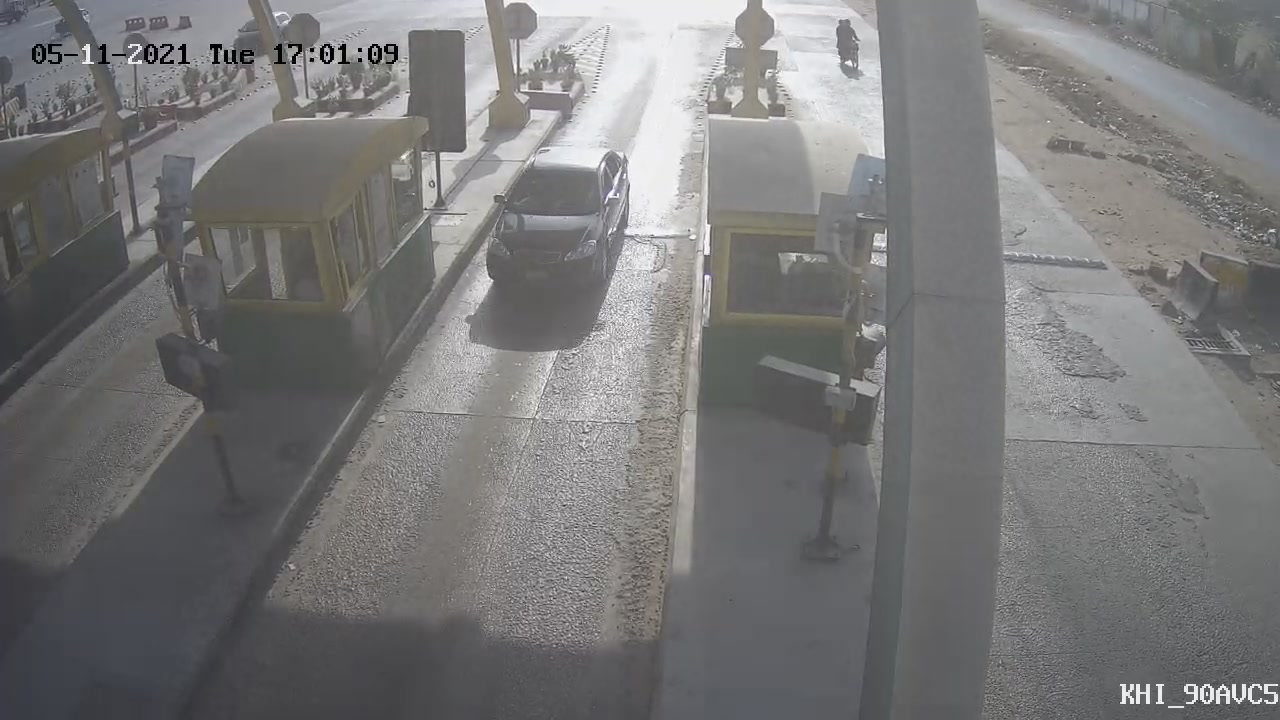F1: (465, 130, 647, 326)
